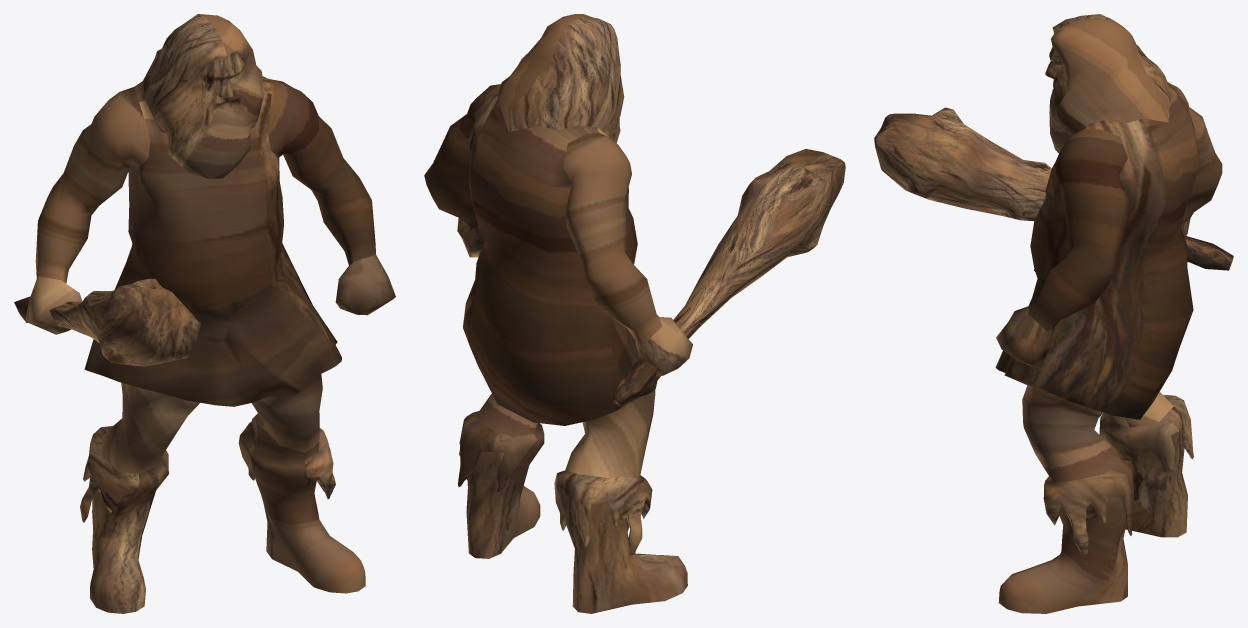
The model's file is 74-mountaingiant.glb.
3 views of the same model, side by side, from view 1: azimuth 30°, elevation 25°; view 2: azimuth 150°, elevation 25°; view 3: azimuth 270°, elevation 25° (orthographic). The views are drawn at different scales.
Bounding box in the file's own units: 2.43 × 3.96 × 2.39.
1 material, 1 textured.
